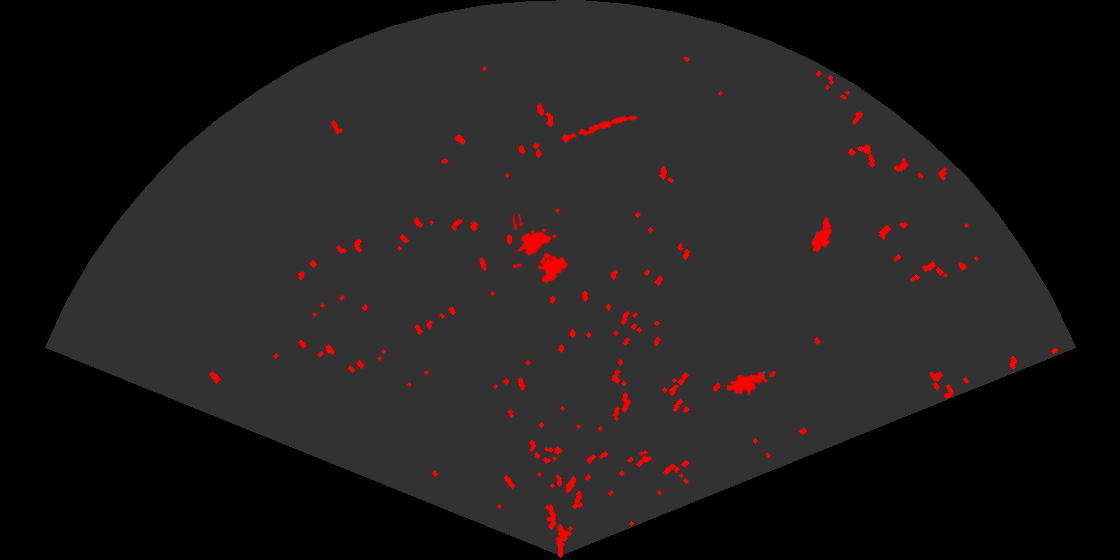AUV: (809, 215, 834, 254)
cage: (513, 214, 570, 285)
chain: (556, 114, 640, 144)
frogman: (727, 369, 776, 397)
